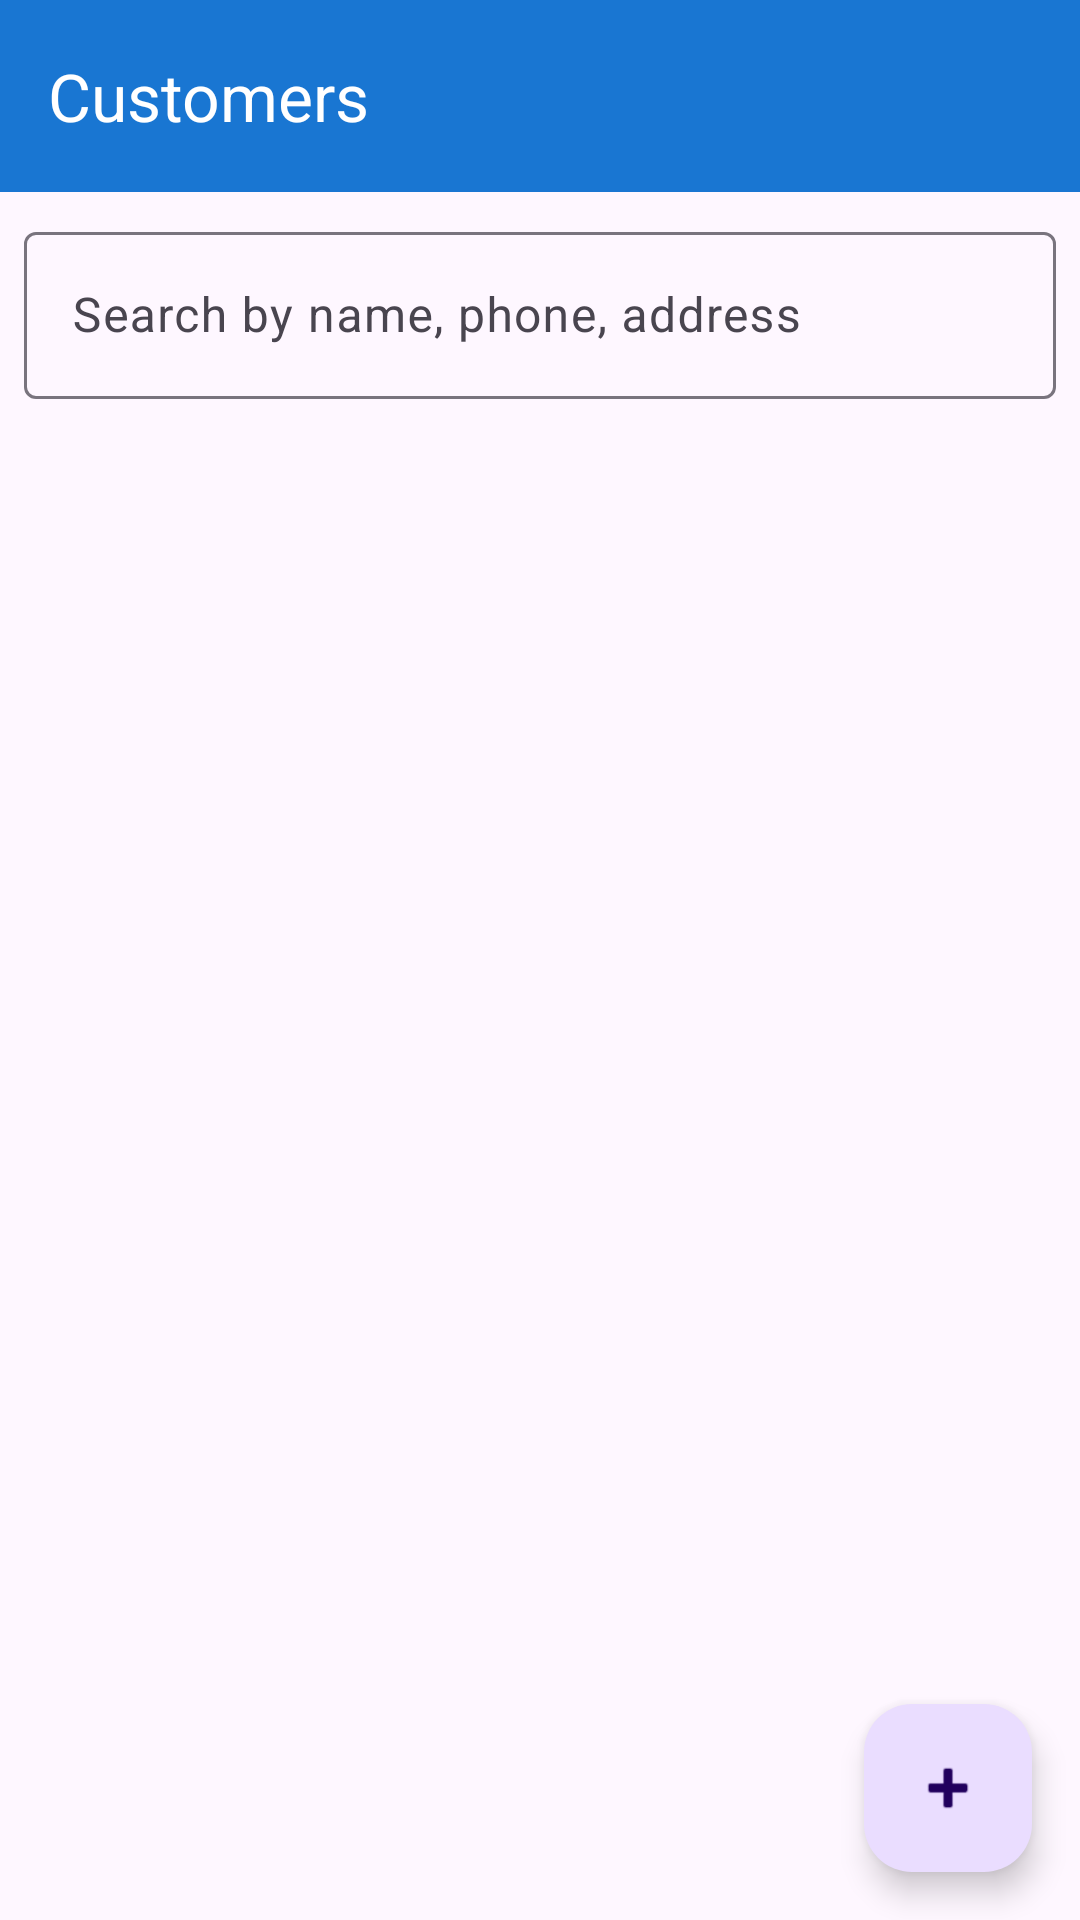

Named icons in this screenshot (1080px×1920px) and their bounding boxes, BBox(x1, y1, x2, y2):
Add Customer: BBox(864, 1704, 1032, 1872)
